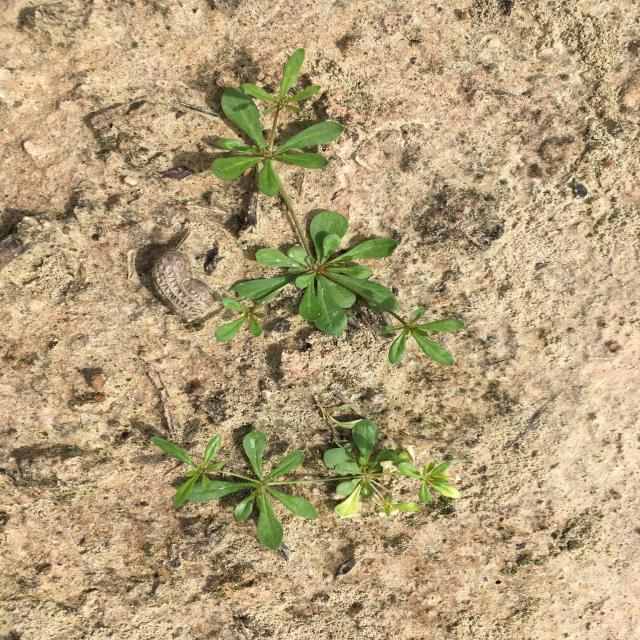Carpetweed: (211, 47, 464, 366), (150, 418, 463, 551)
